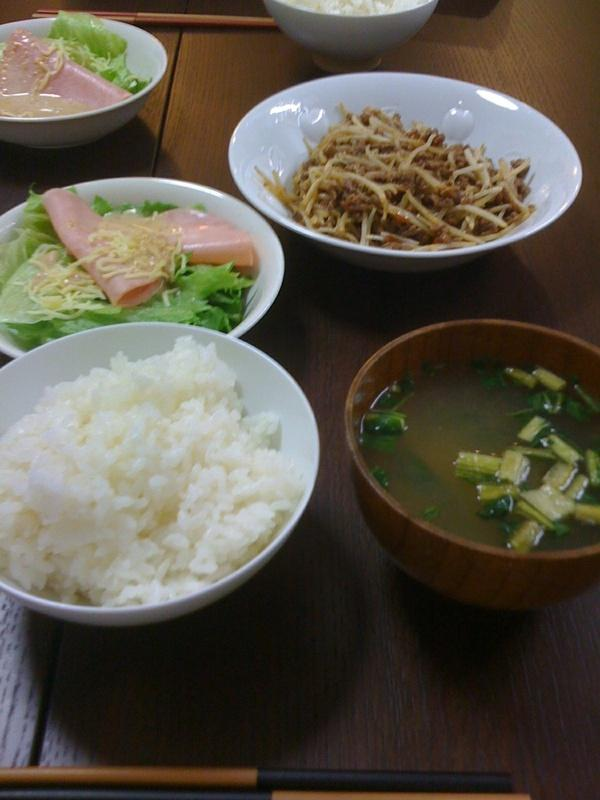plate: (0, 323, 319, 626)
rice: (0, 338, 306, 606)
